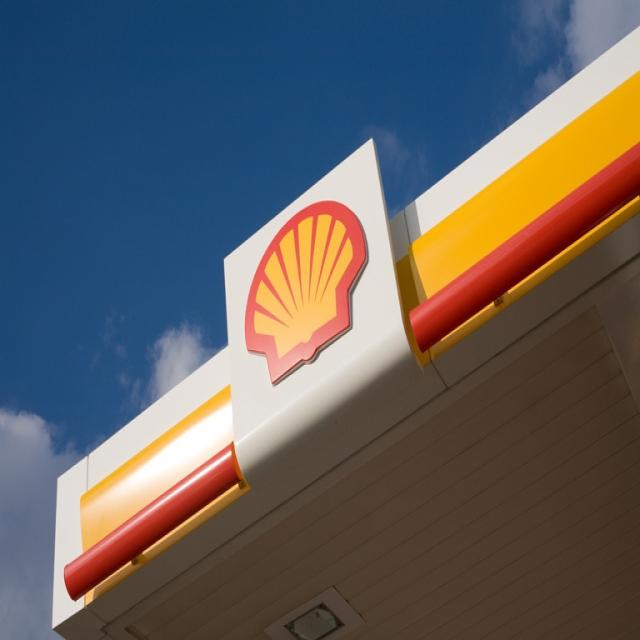shell: (245, 201, 369, 383)
